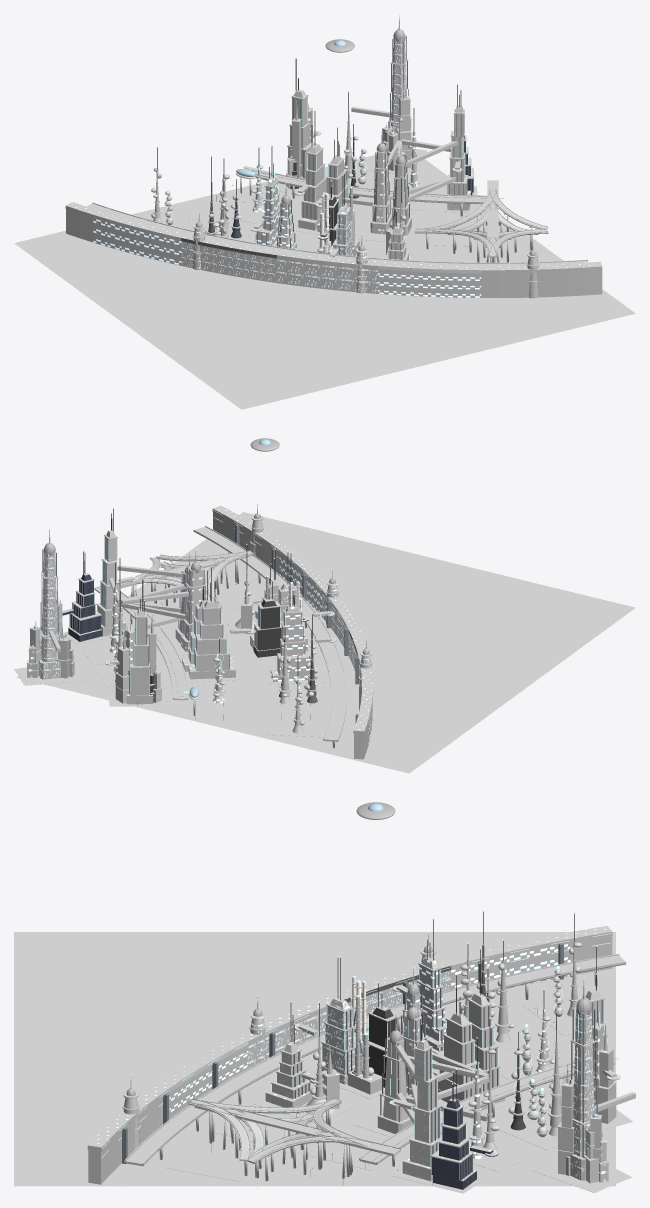
Rendered from Viertel_L1.fbx.
3 views of the same model, one above another, from view 1: azimuth 30°, elevation 25°; view 2: azimuth 150°, elevation 25°; view 3: azimuth 270°, elevation 25° (orthographic). The views are drawn at different scales.
Parts seen in each view (by area): view 1: Viertel_L1_Strasse, Viertel_L1_Fassaden, Viertel_L1_Details; view 2: Viertel_L1_Strasse, Viertel_L1_Fassaden, Viertel_L1_Details; view 3: Viertel_L1_Strasse, Viertel_L1_Fassaden, Viertel_L1_Details.
Boxes of the visible parts, left/top/right/bottom form: Viertel_L1_Strasse: left=14, top=149, right=635, bottom=409; Viertel_L1_Fassaden: left=65, top=38, right=602, bottom=298; Viertel_L1_Details: left=108, top=14, right=548, bottom=282; Viertel_L1_Strasse: left=14, top=512, right=635, bottom=773; Viertel_L1_Fassaden: left=27, top=505, right=373, bottom=759; Viertel_L1_Details: left=26, top=438, right=373, bottom=748; Viertel_L1_Strasse: left=14, top=932, right=632, bottom=1193; Viertel_L1_Fassaden: left=87, top=926, right=616, bottom=1189; Viertel_L1_Details: left=101, top=802, right=635, bottom=1184.
Size of the model in its own units: 64823 by 32254 by 65092.
